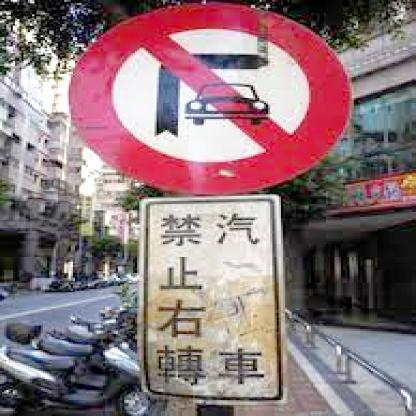No right turn: (85, 0, 345, 182)
